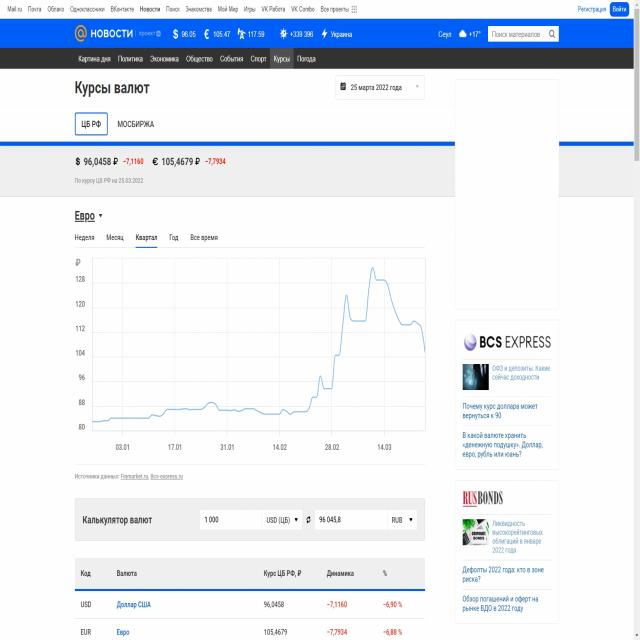menu-bar: (74, 47, 322, 69)
search: (487, 21, 561, 43)
side-panel: (453, 316, 563, 640)
